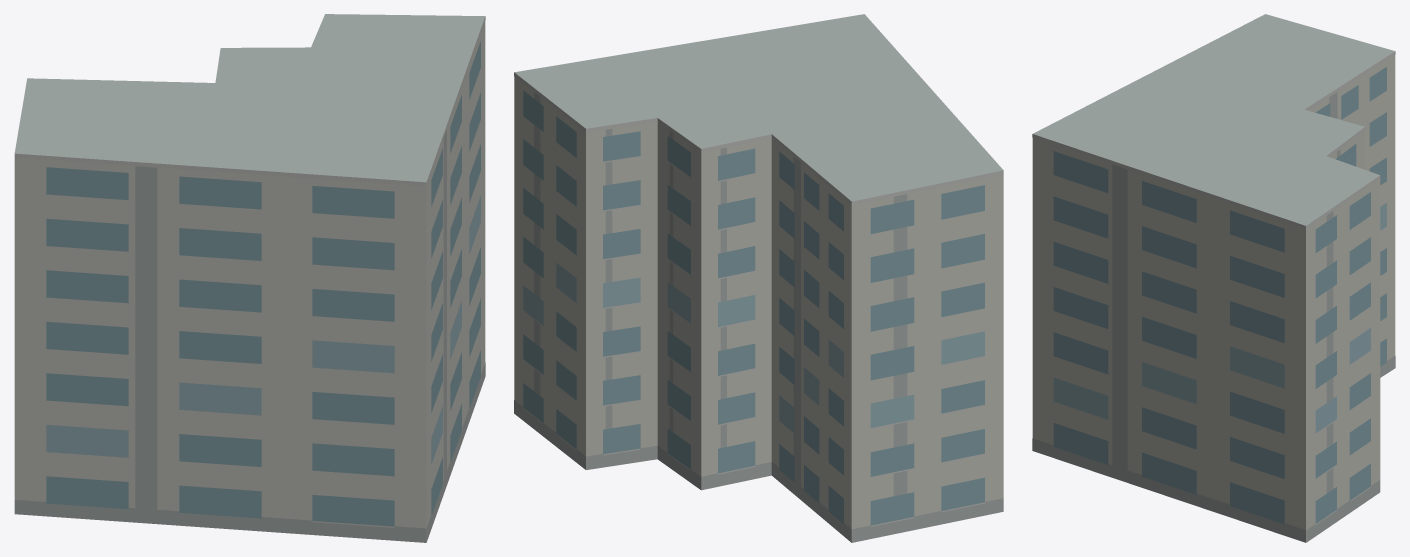
File: residential-ca41d4b5-5731-4366-84b2-b6c8774c956e.glb
3 views of the same model, side by side, from view 1: azimuth 30°, elevation 25°; view 2: azimuth 150°, elevation 25°; view 3: azimuth 270°, elevation 25° (orthographic). The views are drawn at different scales.
Visible parts, largest first — view 1: residential-ca41d4b5-5731-4366-84b2-b6c8774c956e.tmp; view 2: residential-ca41d4b5-5731-4366-84b2-b6c8774c956e.tmp; view 3: residential-ca41d4b5-5731-4366-84b2-b6c8774c956e.tmp.
Part boxes in pixels (x1,y1,x2,y2): residential-ca41d4b5-5731-4366-84b2-b6c8774c956e.tmp: (14, 14, 485, 542); residential-ca41d4b5-5731-4366-84b2-b6c8774c956e.tmp: (514, 14, 1003, 542); residential-ca41d4b5-5731-4366-84b2-b6c8774c956e.tmp: (1032, 14, 1395, 542).
Bounding box in the file's own units: 30.62 × 21.35 × 22.16.
